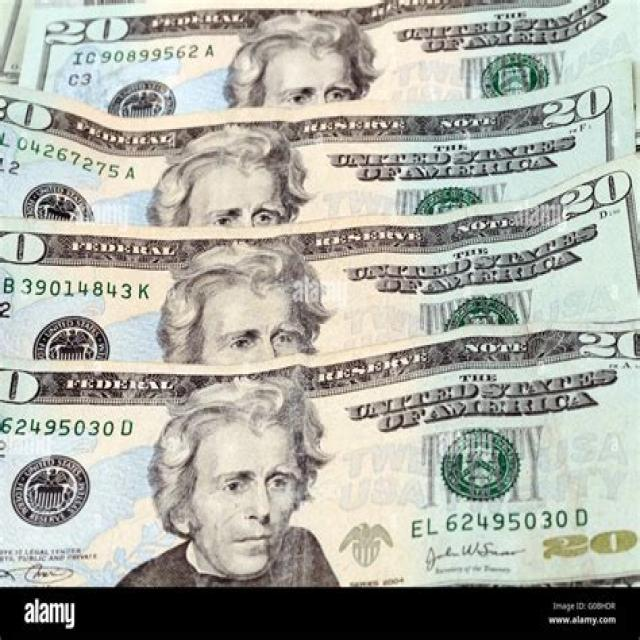Twenty: (1, 322, 640, 584), (0, 150, 639, 357), (0, 55, 638, 232), (19, 3, 640, 117)
